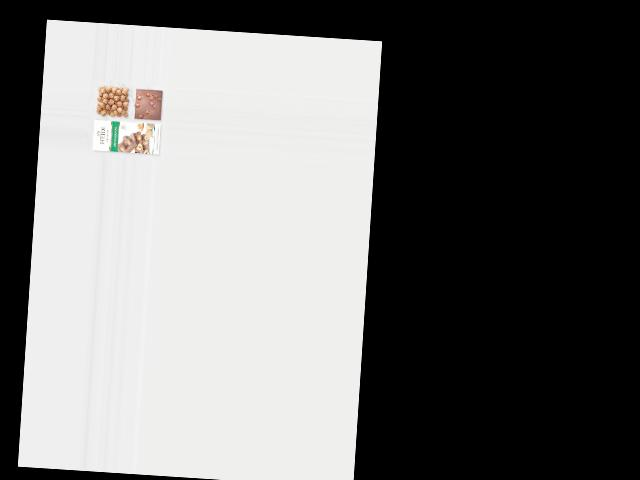chocolate: (133, 85, 164, 121)
